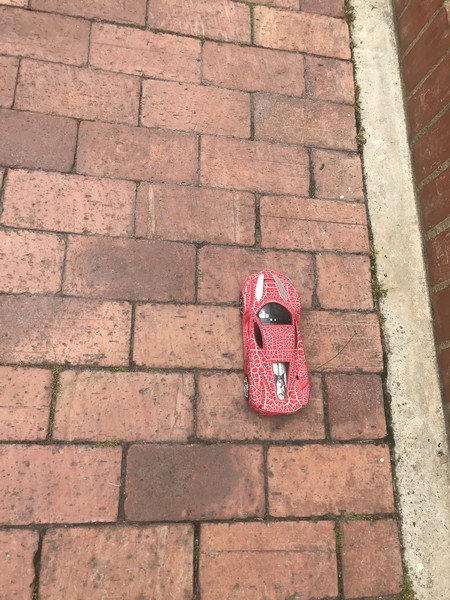RC: (238, 268, 312, 417)
